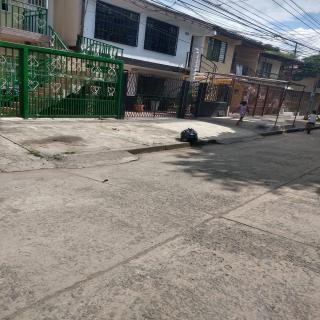Garbage: (180, 128, 198, 143)
